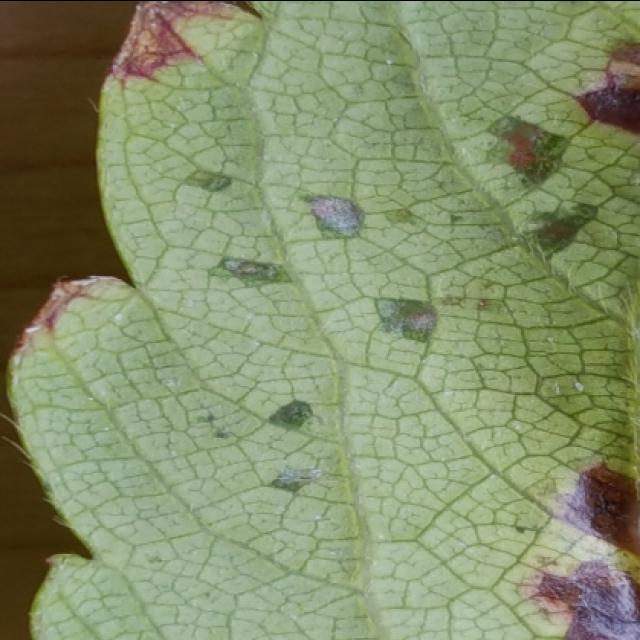Angular Leafspot: (11, 2, 638, 640)
